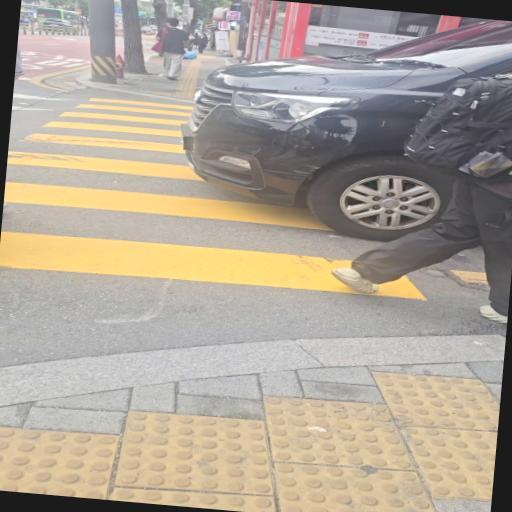yellow-crosswalk: (0, 83, 471, 319)
